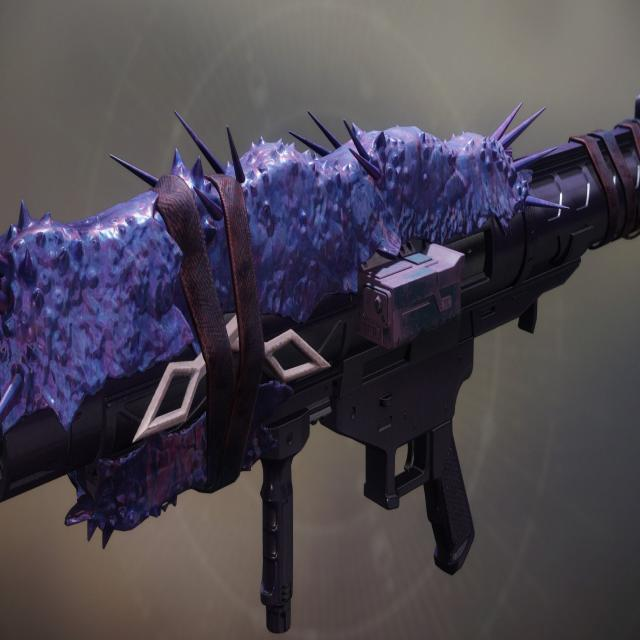bazooka: (3, 97, 640, 639)
